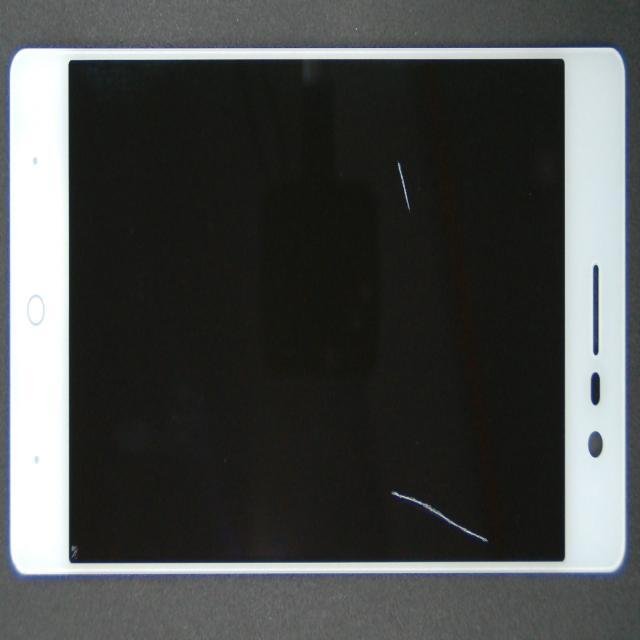scratch: (387, 486, 492, 546), (387, 147, 417, 224)
